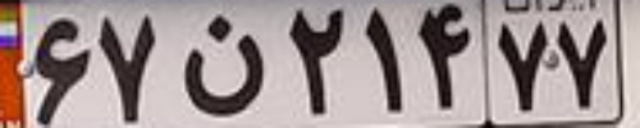1: (359, 6, 405, 111)
2: (287, 7, 346, 115)
4: (412, 3, 474, 111)
6: (33, 19, 90, 124)
7: (96, 13, 159, 121), (554, 15, 607, 111), (495, 18, 546, 111)
non: (174, 11, 267, 115)
